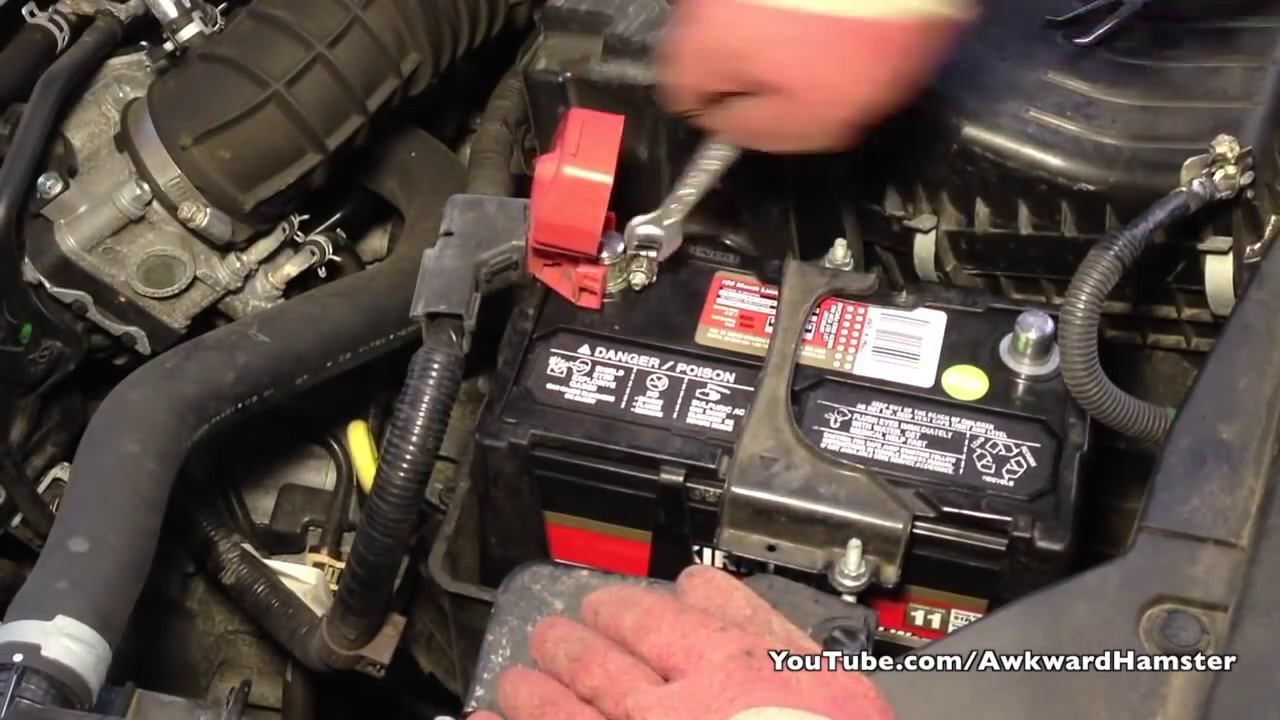battery: (490, 225, 1075, 545)
neg_disconnected: (954, 310, 1090, 391)
pos_connected: (490, 118, 659, 323)
